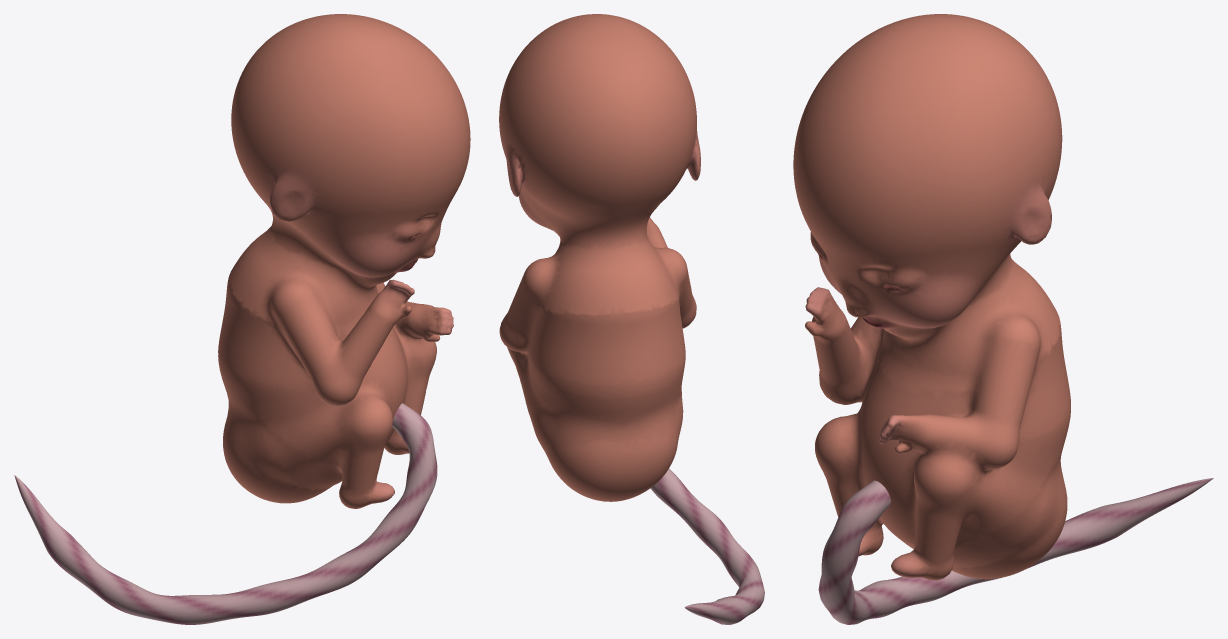
The model's file is week_24.glb.
The picture shows the model from 3 angles, left to right: view 1: azimuth 30°, elevation 25°; view 2: azimuth 150°, elevation 25°; view 3: azimuth 270°, elevation 25°; orthographic projection. The views are drawn at different scales.
Parts seen in each view (by area): view 1: skin, cord; view 2: skin, cord; view 3: skin, cord.
Part boxes in pixels (x1,y1,x2,y2): skin: (218, 14, 470, 508); cord: (14, 403, 437, 624); skin: (499, 14, 700, 501); cord: (650, 468, 764, 624); skin: (793, 14, 1070, 580); cord: (818, 478, 1213, 624).
Bounding box in the file's own units: 1.74 × 2.89 × 1.66.
